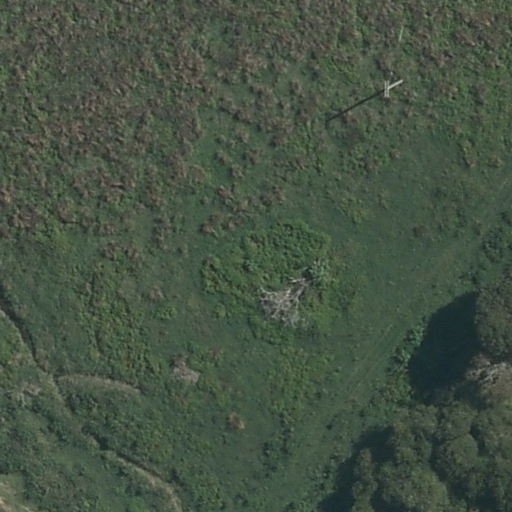DT: (380, 76, 403, 95)
